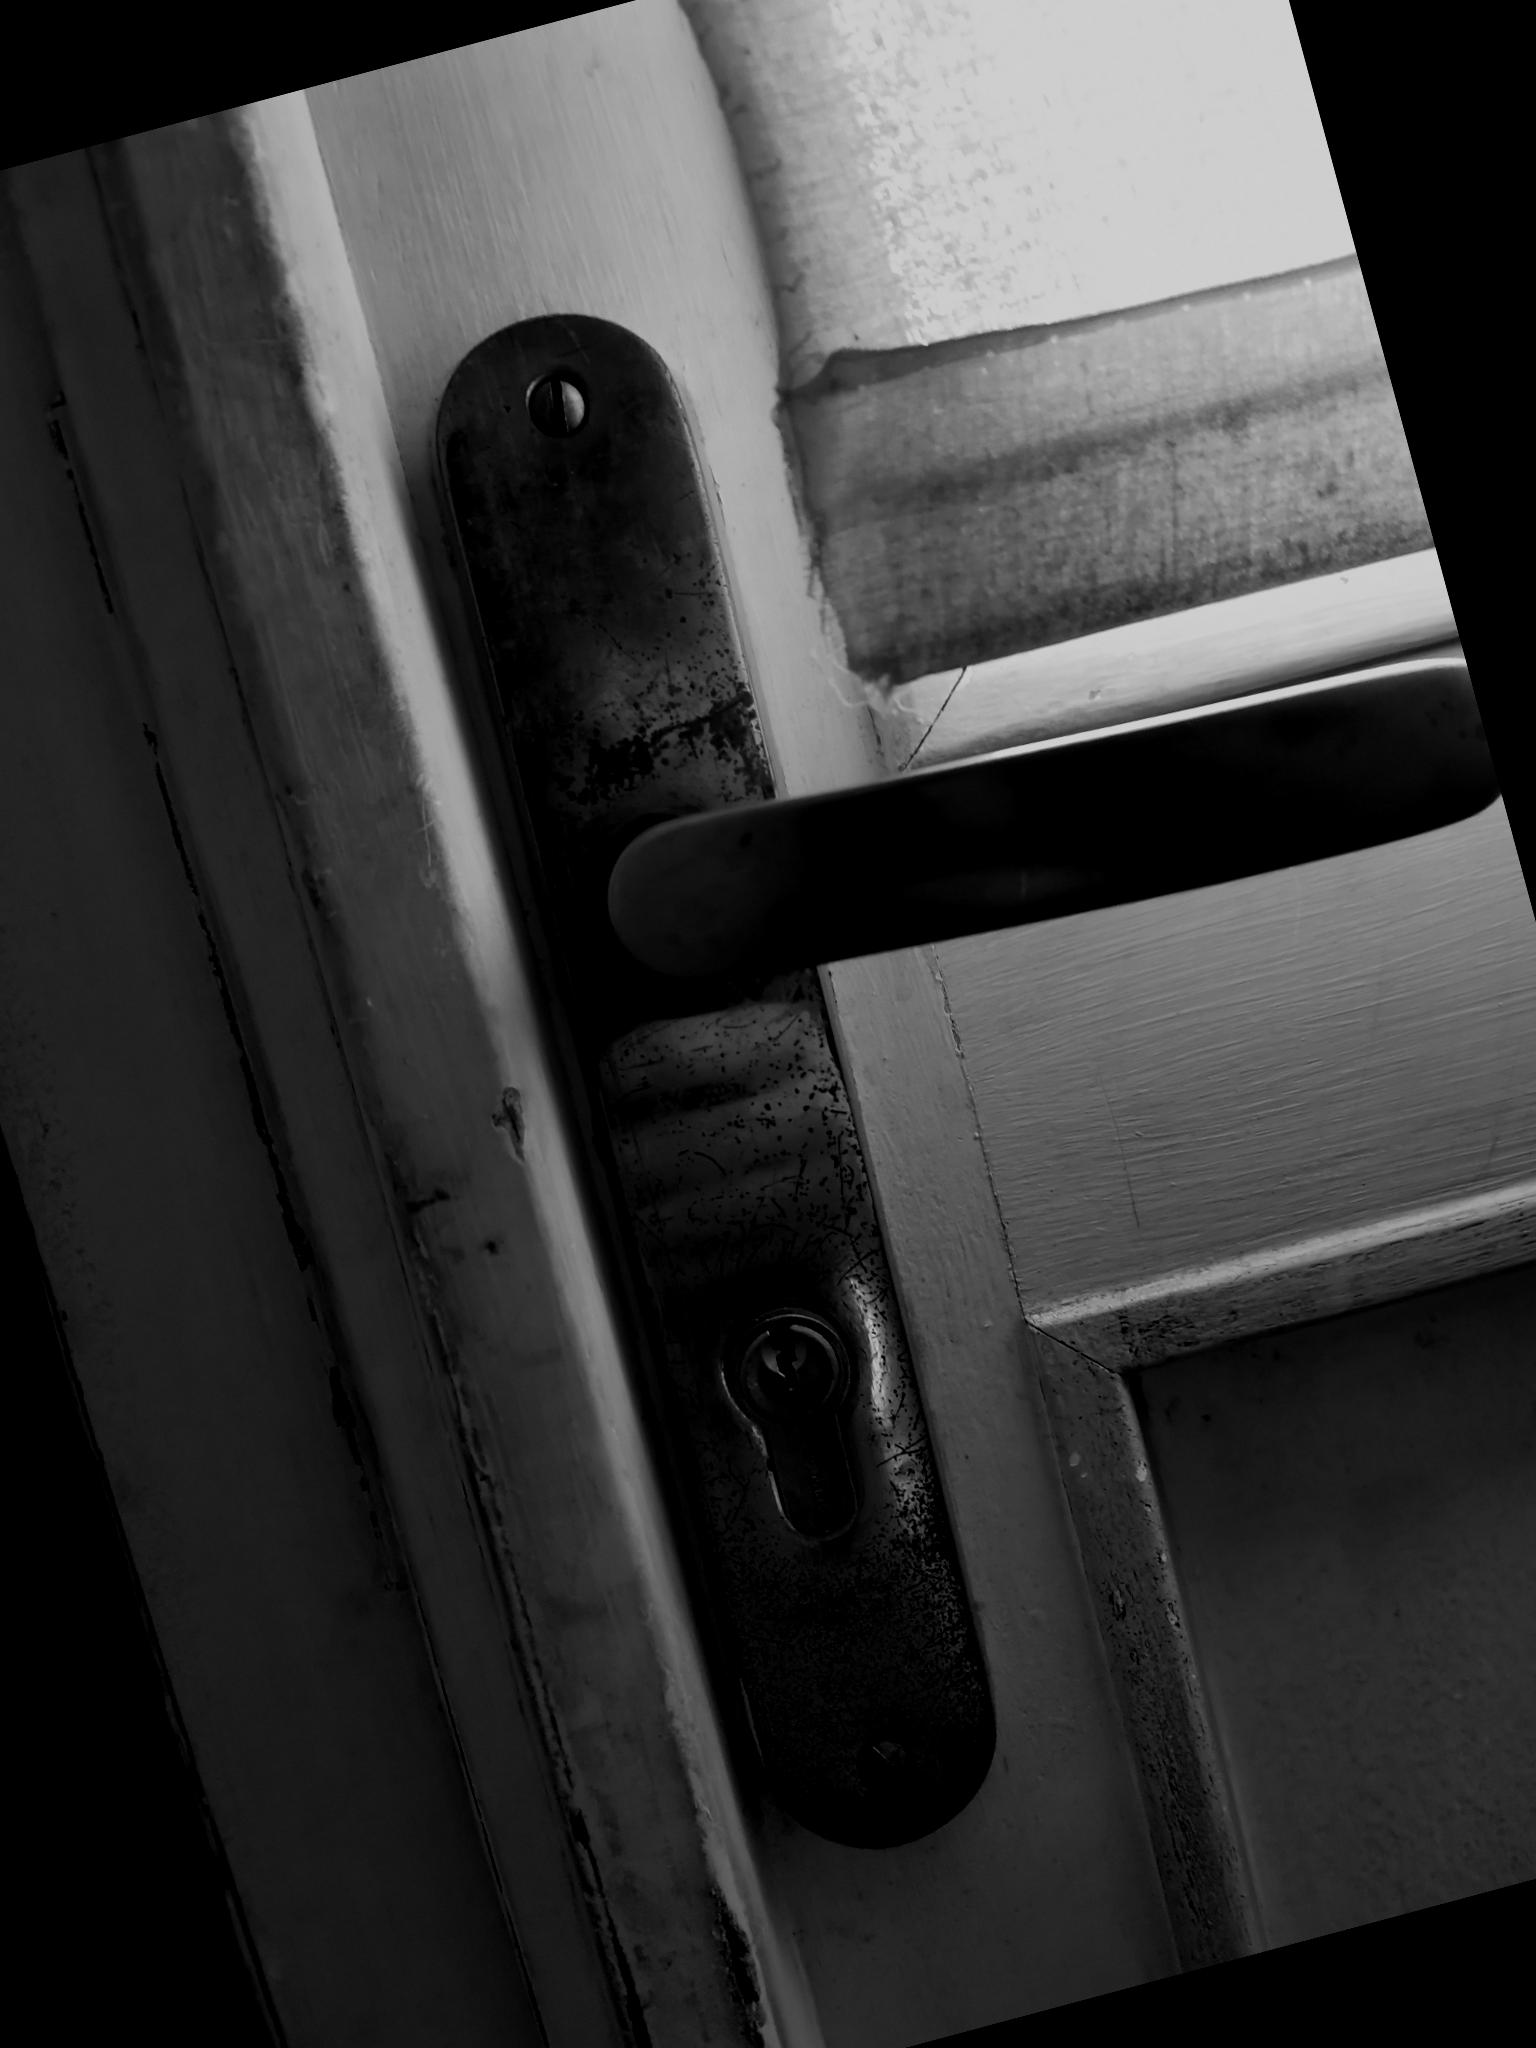screw: (841, 1725, 929, 1814), (515, 360, 602, 448)
